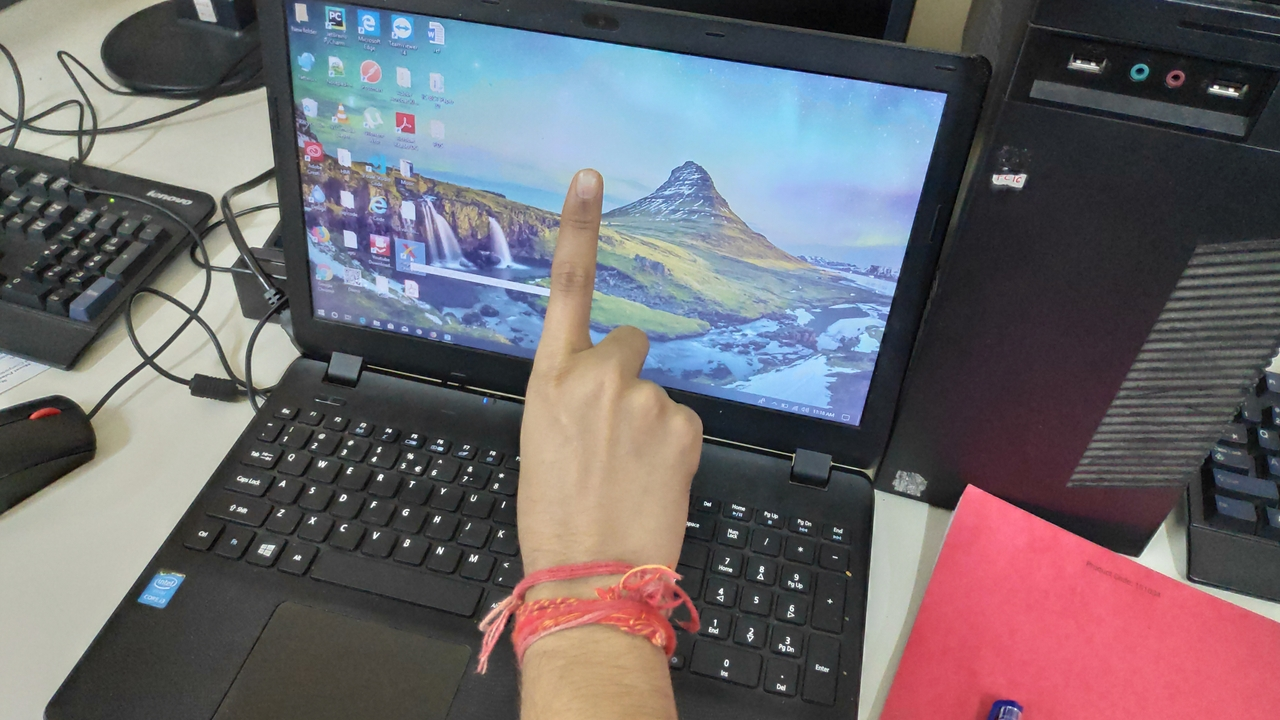fingertip: (556, 158, 610, 202)
